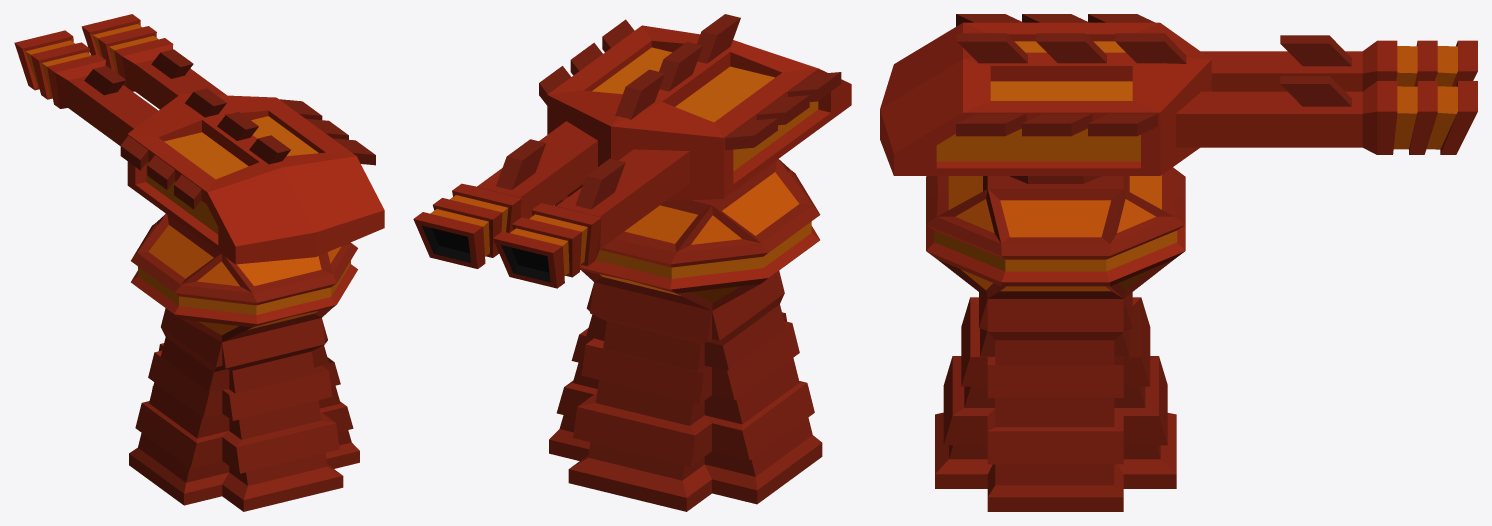
File: BasicBlaster.fbx
3 renders of one model, left to right at view 1: azimuth 30°, elevation 25°; view 2: azimuth 150°, elevation 25°; view 3: azimuth 270°, elevation 25°, orthographic. The views are drawn at different scales.
Parts seen in each view (by area): view 1: Base, Turret, Barrel; view 2: Base, Turret, Barrel; view 3: Base, Turret, Barrel.
Boxes of the visible parts, x1,y1,x2,y2 form: Base: (129,214,359,511); Turret: (120,88,384,264); Barrel: (14,14,226,145); Base: (549,159,822,511); Turret: (539,14,851,201); Barrel: (413,121,689,288); Base: (926,167,1185,511); Turret: (880,14,1211,175); Barrel: (1176,35,1477,154).
Size of the model in its own units: 1.99 by 4.54 by 3.53.
